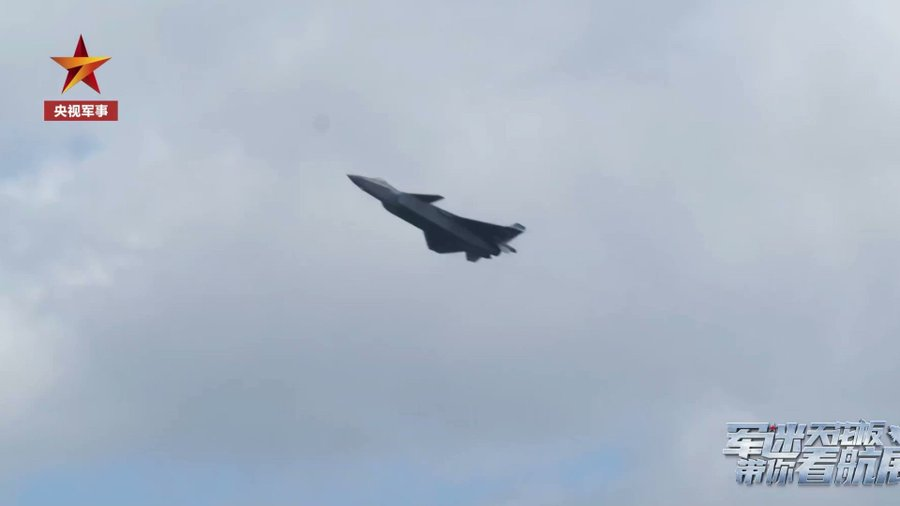J20: (346, 174, 527, 263)
